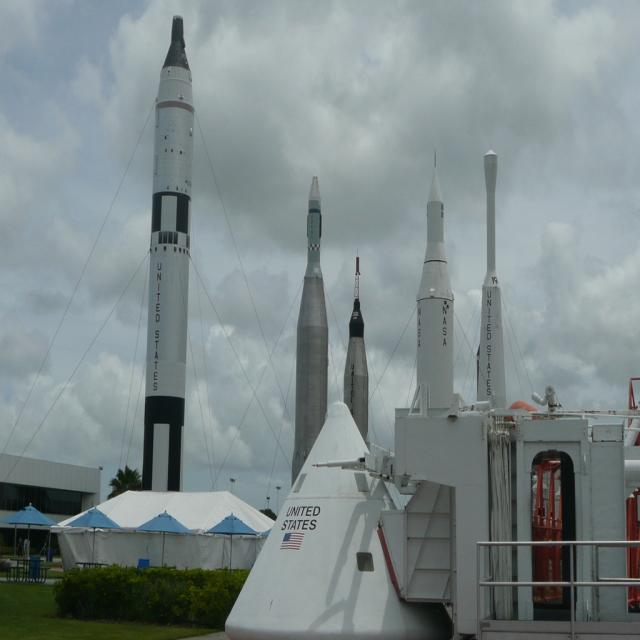Missile: (140, 12, 196, 494), (293, 172, 337, 493), (418, 146, 465, 413), (481, 143, 516, 415), (344, 252, 374, 445)
